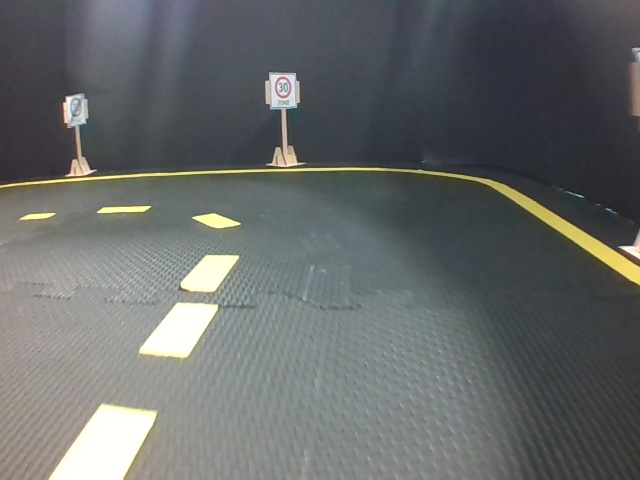30: (270, 71, 298, 108)
no30: (67, 94, 84, 123)
